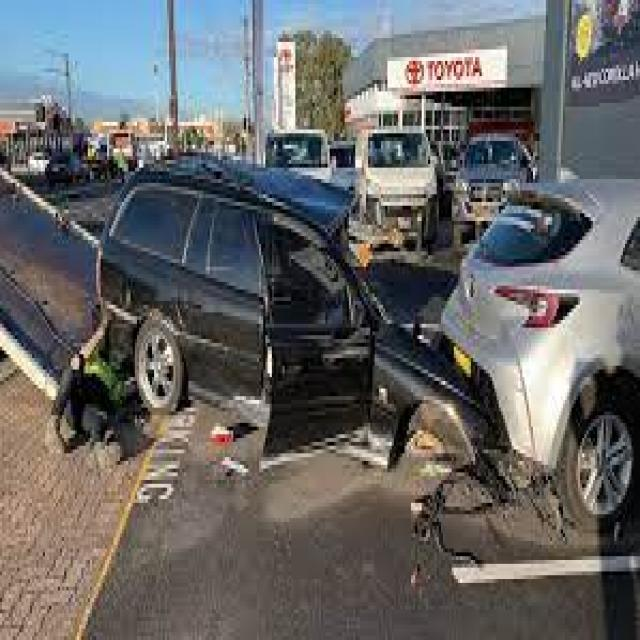accident: (96, 122, 640, 460)
